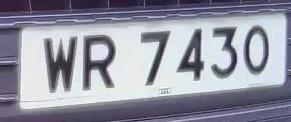0: (241, 19, 275, 83)
3: (207, 19, 243, 88)
4: (172, 22, 211, 90)
7: (134, 26, 176, 93)
R: (78, 28, 123, 100)
W: (38, 28, 82, 101)
